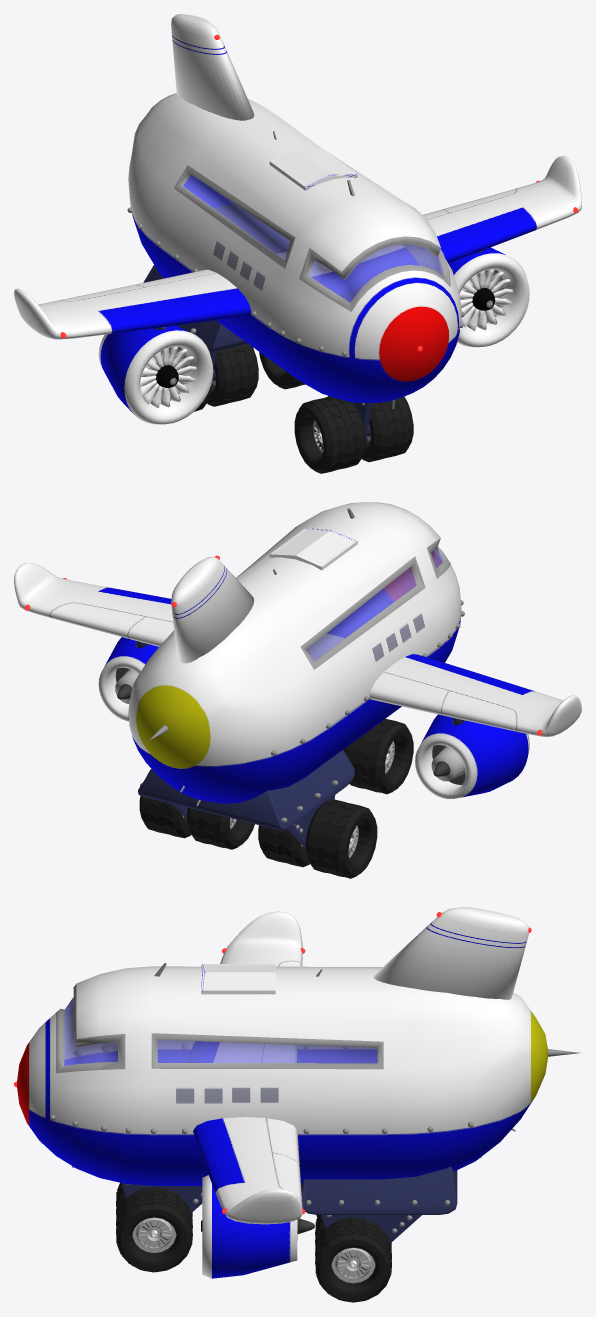
3 views of the same model, one above another, from view 1: azimuth 30°, elevation 25°; view 2: azimuth 150°, elevation 25°; view 3: azimuth 270°, elevation 25° (orthographic). The views are drawn at different scales.
Parts seen in each view (by area): view 1: Main_78, Wing_79, Hood_42, Tail Wing_81, Wheel_86, Hood_3, Back Wheel Base_106, Wheel_83, Wheel_95, Cube.002_162, Wheel_92; view 2: Main_78, Wing_79, Hood_42, Tail Wing_81, Back Wheel Base_106, Wheel_98, Wheel_86, Cube.002_162, Hood_3, Wheel_92, Wheel_89, Wheel_95 (+1 smaller); view 3: Main_78, Wing_79, Tail Wing_81, Back Wheel Base_106, Hood_3, Wheel_83, Wheel_89, Cube.002_162, RBWheel Connect 1_102, FWheel Connect 1_100.
Boxes of the visible parts, left/top/right/bottom form: Main_78: left=128, top=93, right=461, bottom=402; Wing_79: left=14, top=155, right=581, bottom=339; Hood_42: left=98, top=325, right=213, bottom=424; Tail Wing_81: left=171, top=14, right=254, bottom=120; Wheel_86: left=294, top=396, right=365, bottom=473; Hood_3: left=448, top=247, right=529, bottom=347; Back Wheel Base_106: left=143, top=204, right=289, bottom=352; Wheel_83: left=361, top=396, right=413, bottom=462; Wheel_95: left=206, top=343, right=258, bottom=406; Cube.002_162: left=269, top=148, right=357, bottom=190; Wheel_92: left=259, top=352, right=305, bottom=389; Main_78: left=128, top=502, right=461, bottom=803; Wing_79: left=14, top=563, right=581, bottom=736; Hood_42: left=415, top=714, right=529, bottom=798; Tail Wing_81: left=171, top=556, right=254, bottom=663; Back Wheel Base_106: left=138, top=750, right=354, bottom=830; Wheel_98: left=305, top=799, right=377, bottom=878; Wheel_86: left=343, top=718, right=413, bottom=794; Cube.002_162: left=269, top=528, right=357, bottom=570; Hood_3: left=98, top=637, right=158, bottom=721; Wheel_92: left=187, top=808, right=254, bottom=849; Wheel_89: left=139, top=769, right=191, bottom=838; Wheel_95: left=258, top=825, right=309, bottom=867; Main_78: left=17, top=966, right=547, bottom=1185; Wing_79: left=188, top=911, right=302, bottom=1224; Tail Wing_81: left=373, top=907, right=528, bottom=999; Back Wheel Base_106: left=301, top=1166, right=457, bottom=1214; Hood_3: left=202, top=1175, right=297, bottom=1278; Wheel_83: left=116, top=1187, right=192, bottom=1272; Wheel_89: left=315, top=1217, right=391, bottom=1302; Cube.002_162: left=201, top=964, right=275, bottom=994; RBWheel Connect 1_102: left=321, top=1215, right=421, bottom=1243; FWheel Connect 1_100: left=122, top=1183, right=202, bottom=1212.
Size of the model in its own units: 13.92 by 7.98 by 11.93.
17 materials, 5 textured.
